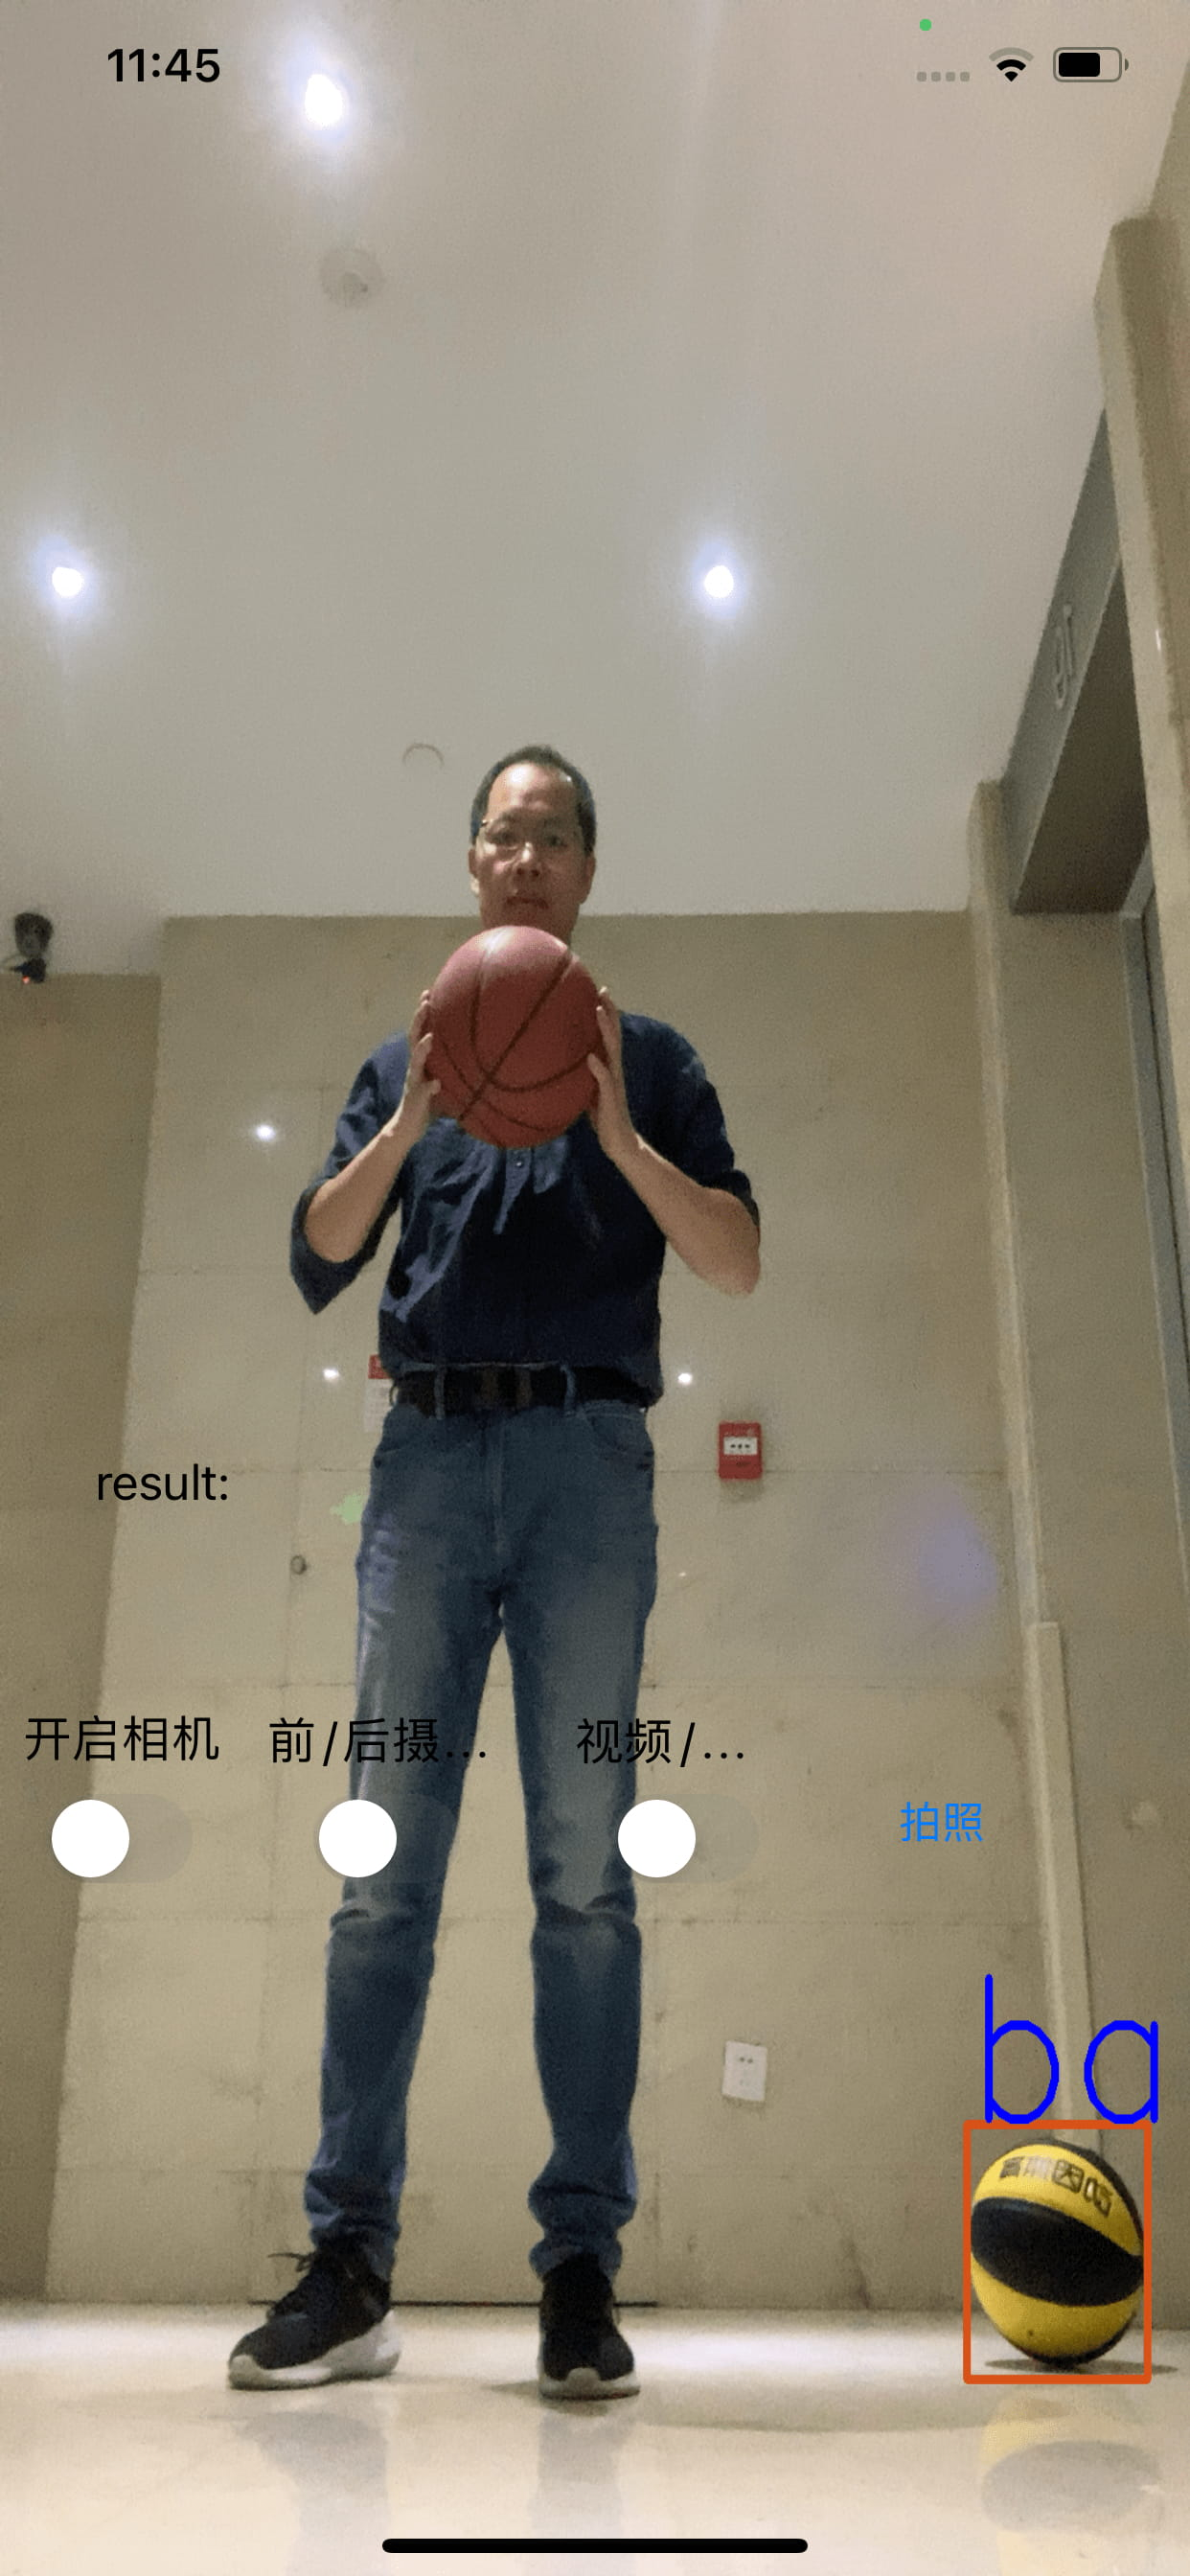ball: (422, 927, 616, 1150), (975, 2132, 1139, 2357)
